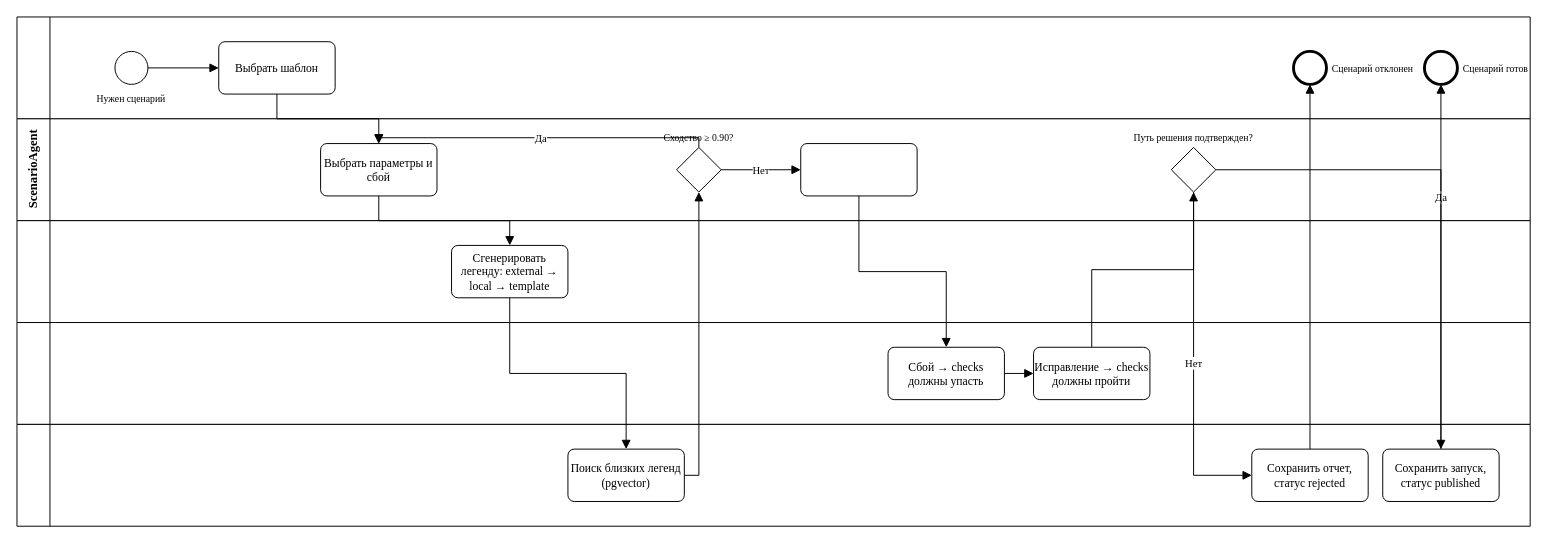
Image size: 1566x543. Some labels were removed from this diagram. The box of each missing label's shape, as (x1, y1, x2, y2) in pixels:
LLM Gateway: (16, 220, 1530, 323)
PostgreSQL + pgvector: (16, 423, 1530, 526)
Sandbox Manager: (16, 322, 1530, 424)
Обучающийся или методист: (16, 16, 1530, 119)
Статическая проверка: (800, 143, 917, 196)
